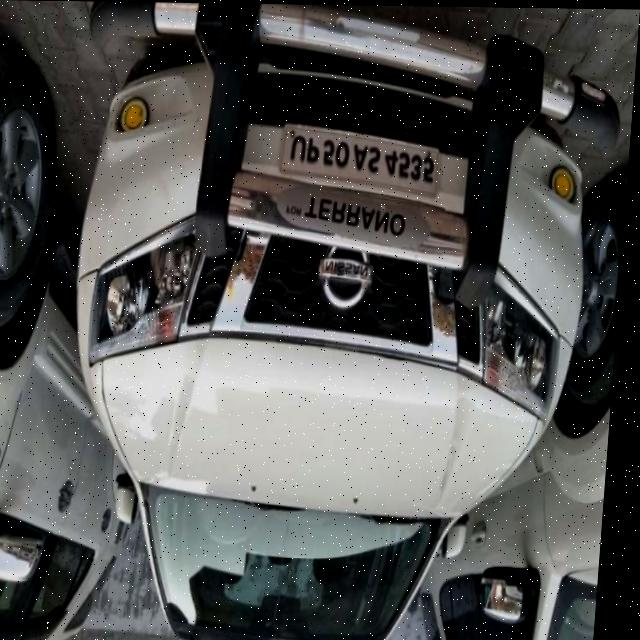plate: (279, 122, 445, 198)
